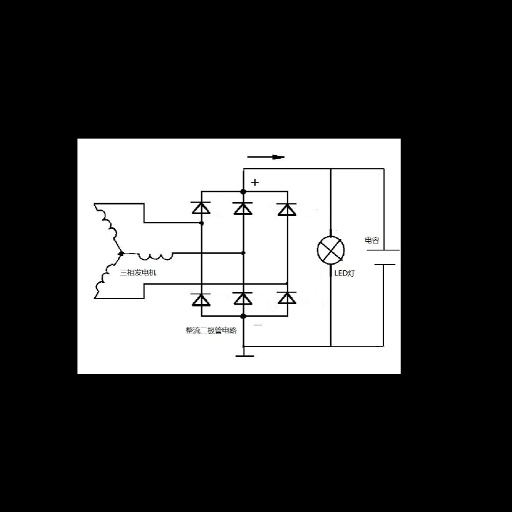light: (315, 235, 347, 265)
seconddiode: (270, 199, 303, 218), (187, 197, 215, 217), (229, 289, 257, 309), (273, 289, 303, 307), (228, 199, 256, 218), (187, 291, 214, 308)
